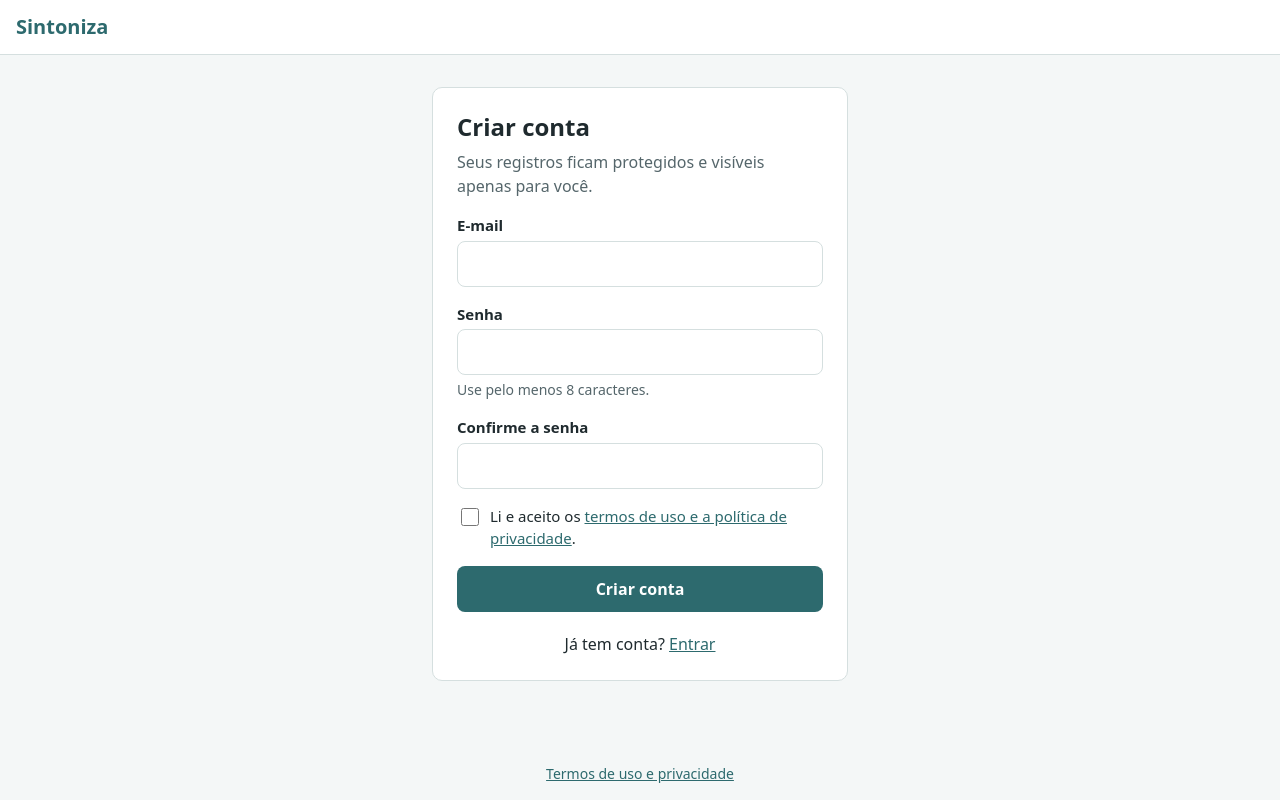
Test: RegisterPage › requires matching passwords
The width and height of the screenshot is (1280, 800).
Step 1. Type "ana@example.com" into the field labelled "E-mail" → (640, 264), box [457, 240, 823, 286]
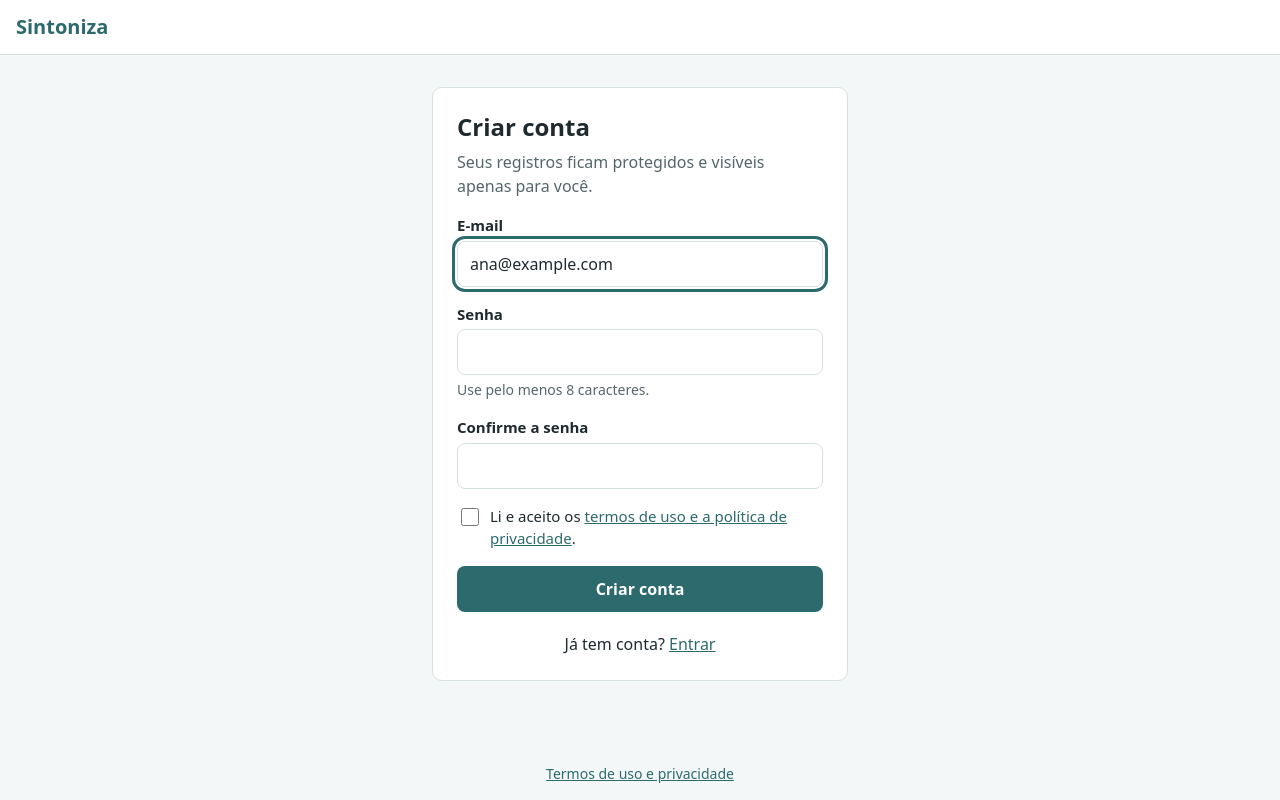
Step 2. Type "senha-segura-123" into the password field labelled "Senha" → (640, 352), box [457, 329, 823, 375]
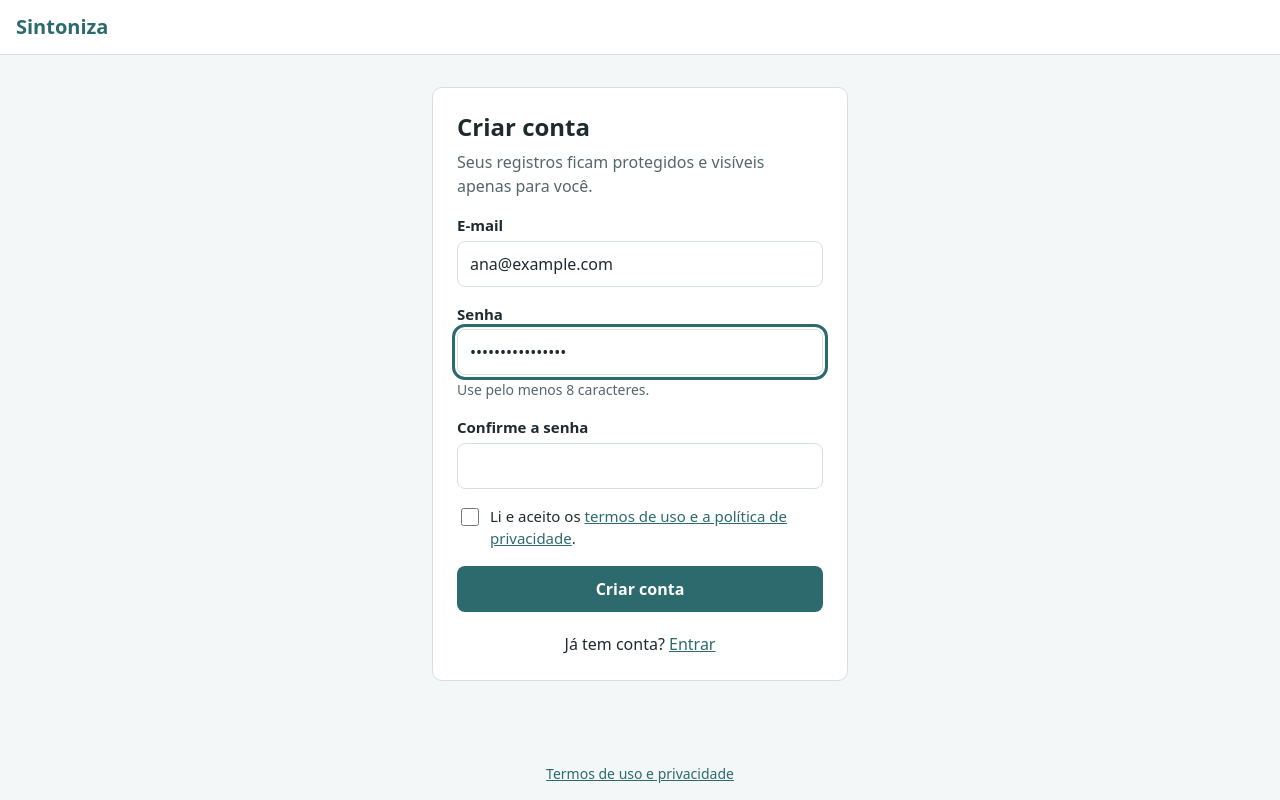
Step 3. Type "outra-senha-123" into the password field labelled "Confirme a senha" → (640, 466), box [457, 442, 823, 488]
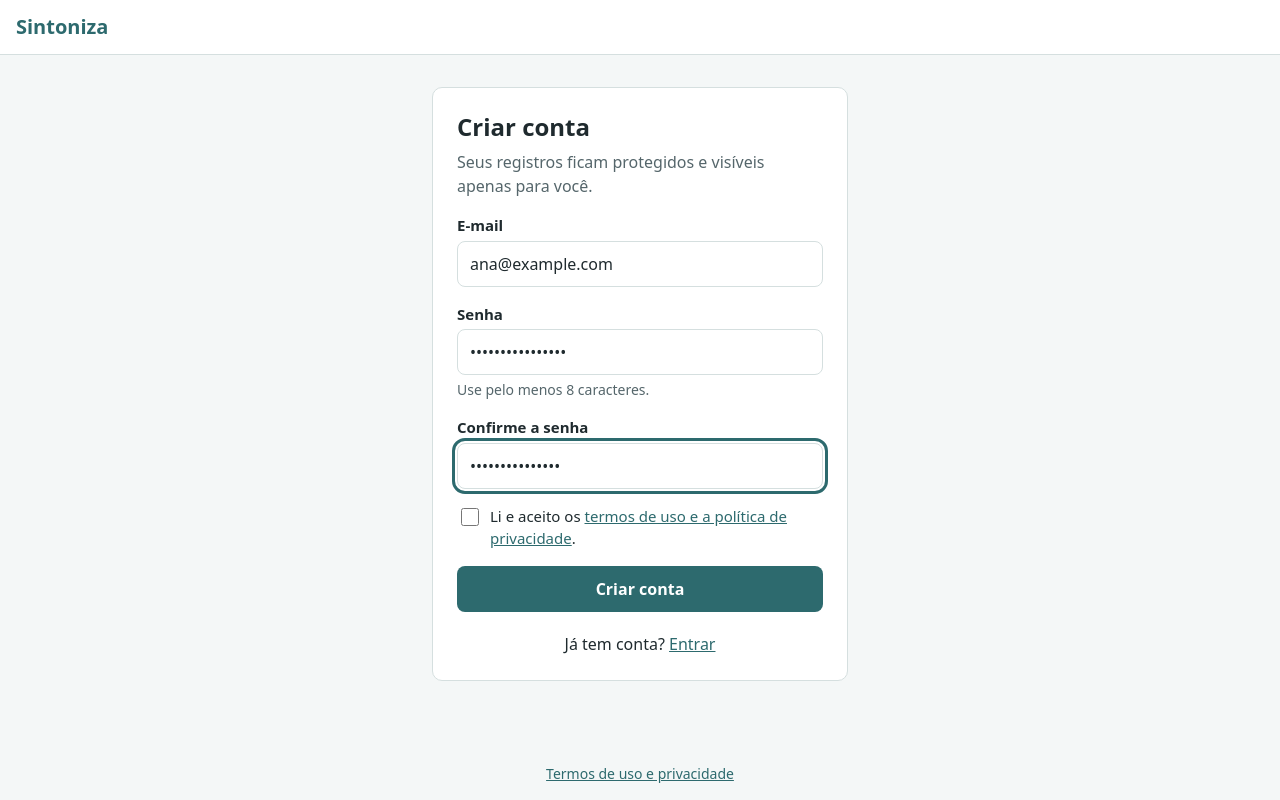
Step 4. Click the checkbox → (470, 517), box [461, 508, 479, 526]
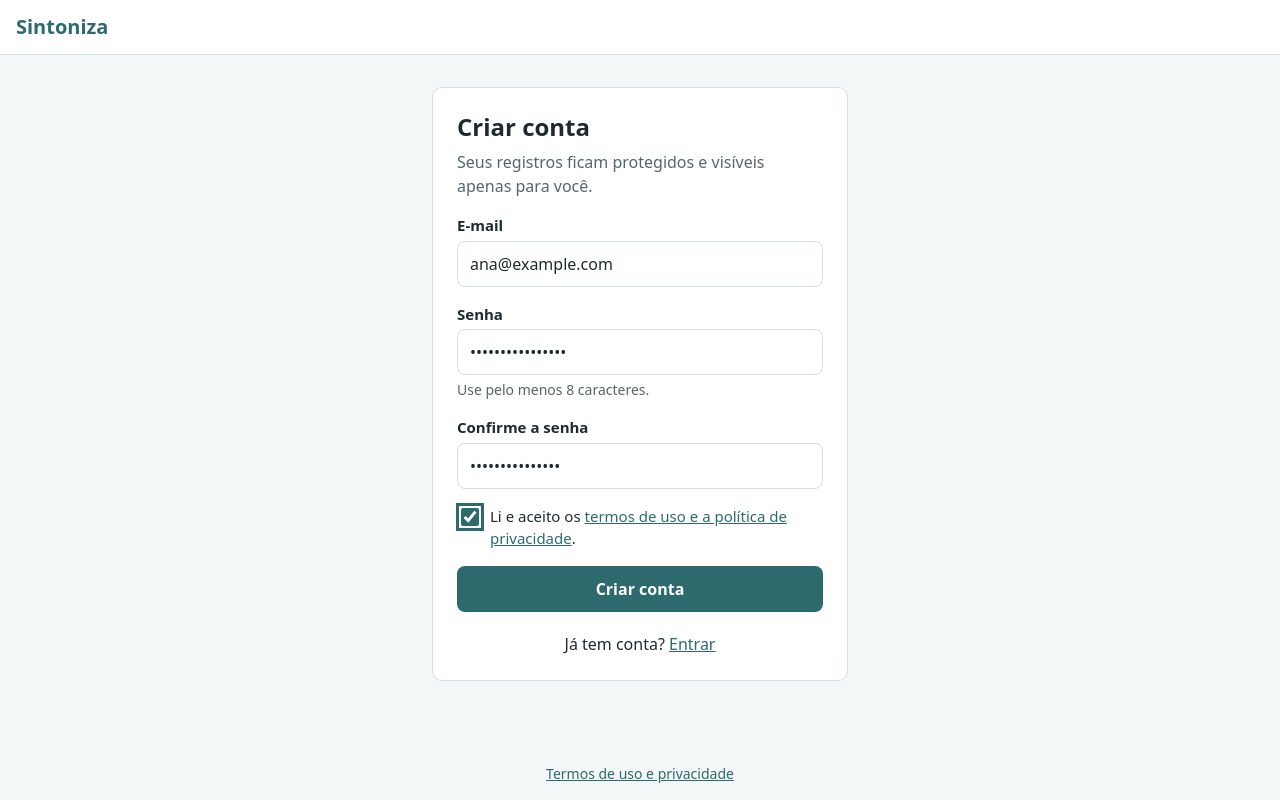
Step 5. Click the button "Criar conta" → (640, 588), box [457, 566, 823, 612]
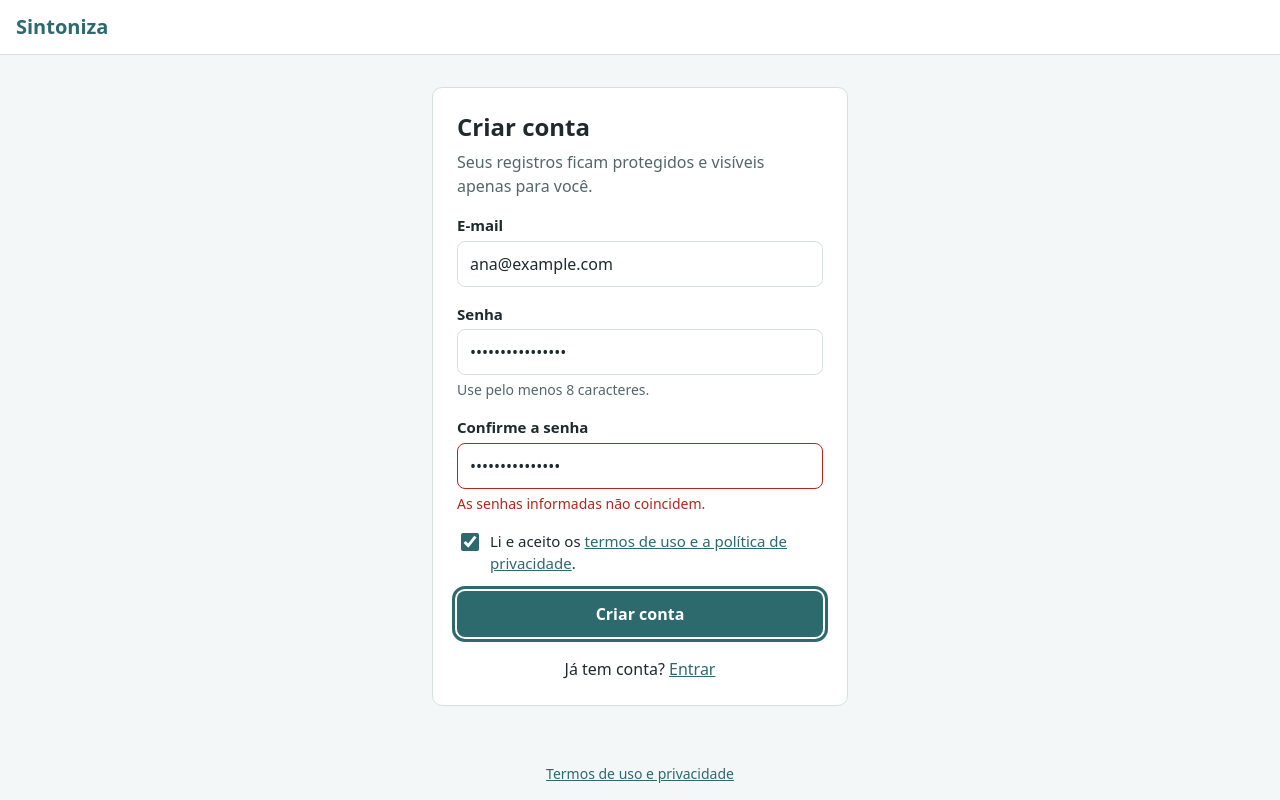
Expected: the text "As senhas informadas não coincidem." is shown, [457, 494, 705, 512]
